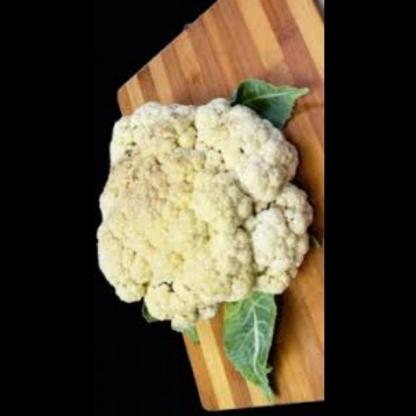cayliflower: (92, 85, 310, 336)
